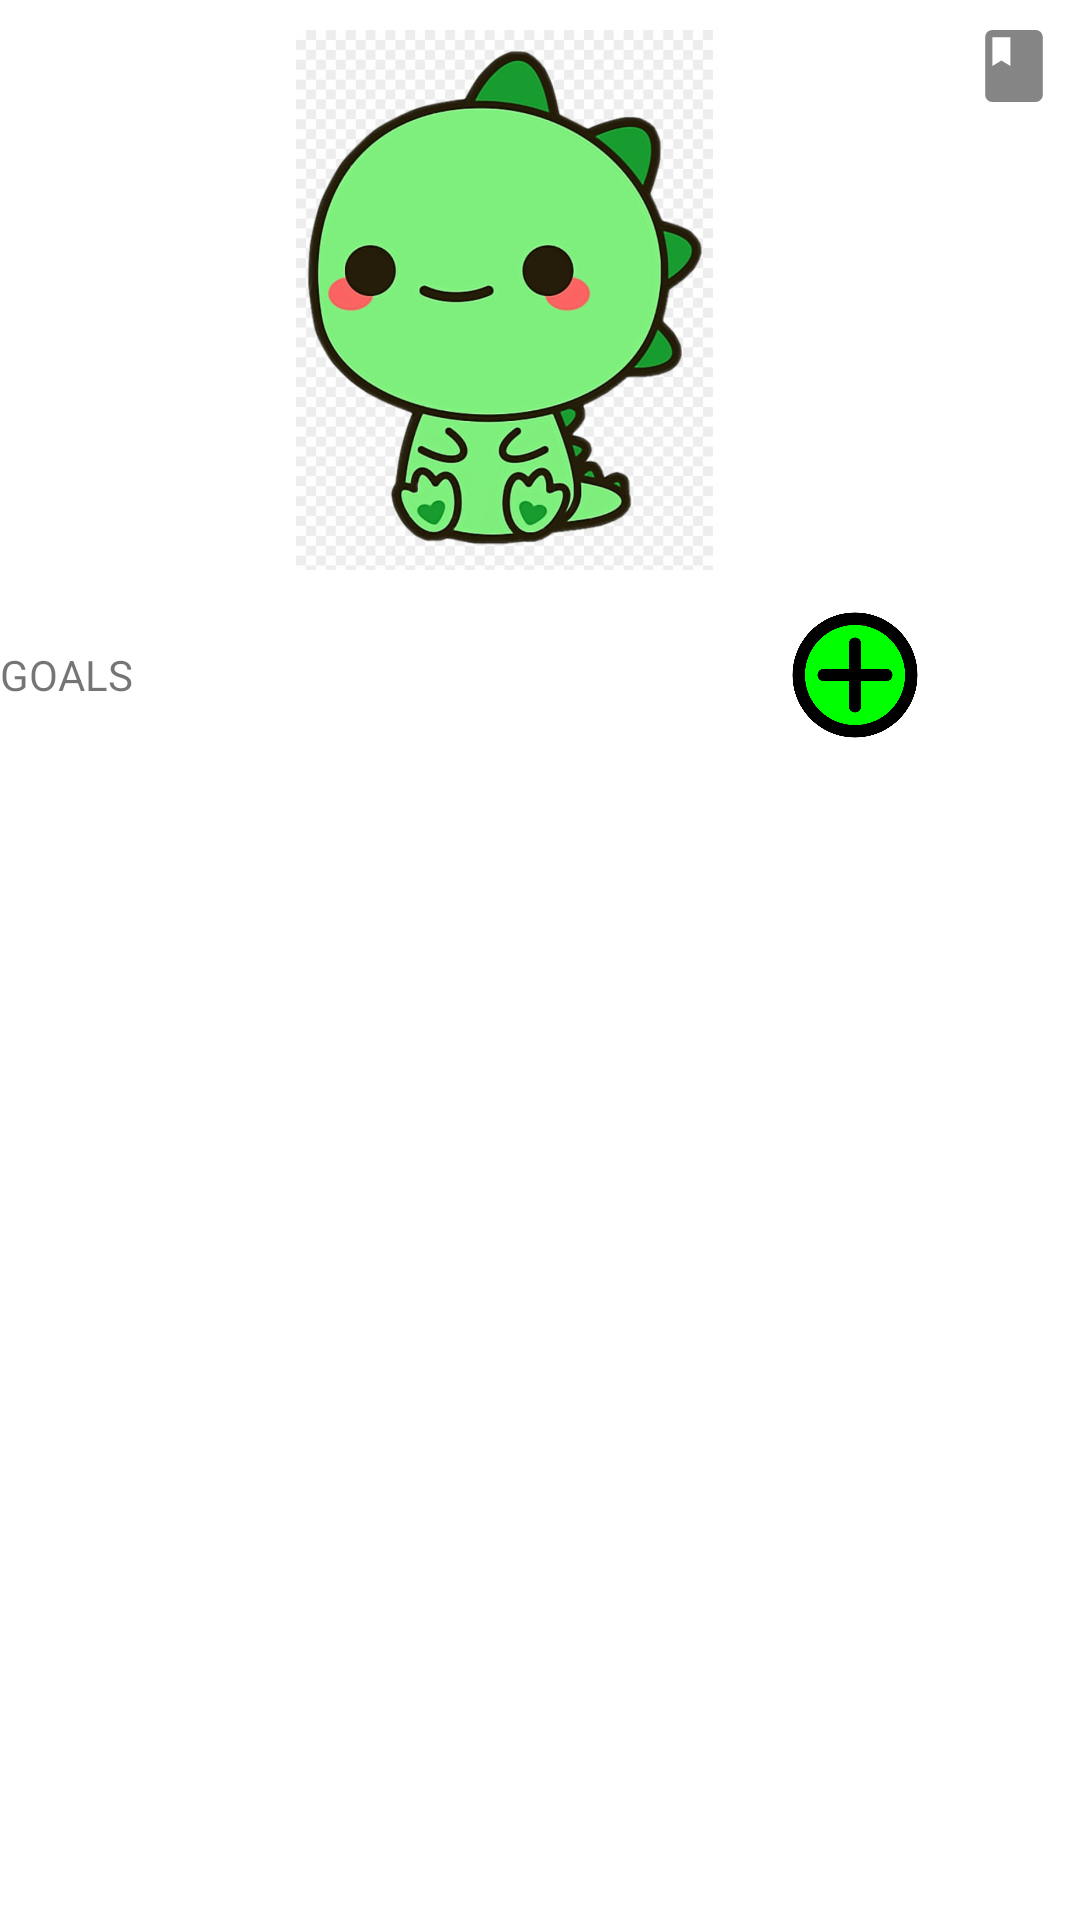

Where icons sit on this 1080 x 1920 app screen, as (x1, y1, x2, y2):
add: (792, 612, 918, 738)
book clipart: (985, 30, 1043, 102)
